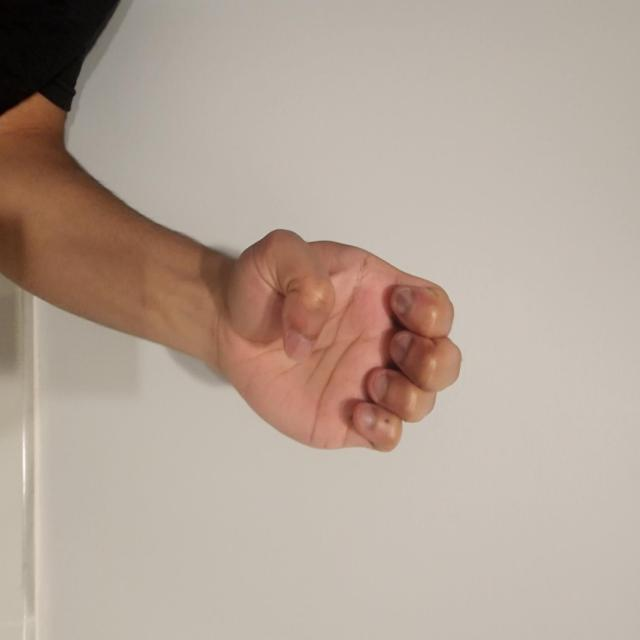E: (326, 230, 503, 584)
